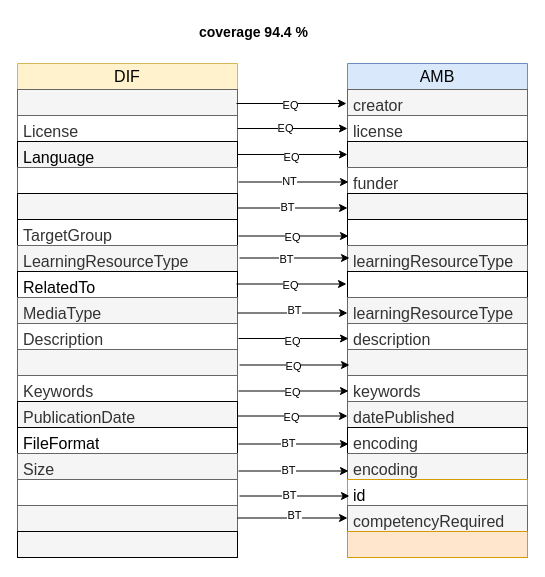
The diagram is 545 pixels wide and 577 high, and some of its shapes have lost their labels. Each missing label, with the box of its shape:
about: (346, 192, 528, 220)
audience: (346, 218, 528, 246)
Author: (16, 88, 238, 116)
Community: (16, 166, 238, 194)
Discipline: (16, 192, 238, 220)
inLanguage: (346, 140, 528, 168)
isBasedOn: (346, 270, 528, 298)
Link: (16, 478, 238, 506)
name: (346, 348, 528, 376)
ProficiencyLevel: (16, 504, 238, 532)
Title: (16, 348, 238, 376)
Version: (16, 530, 238, 558)
